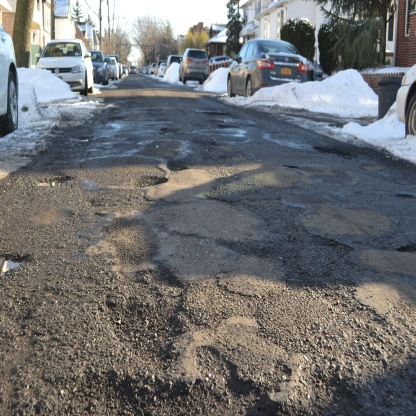pothole: (80, 342, 391, 412), (85, 215, 207, 364), (119, 155, 195, 196), (307, 137, 361, 168), (197, 106, 236, 121)
